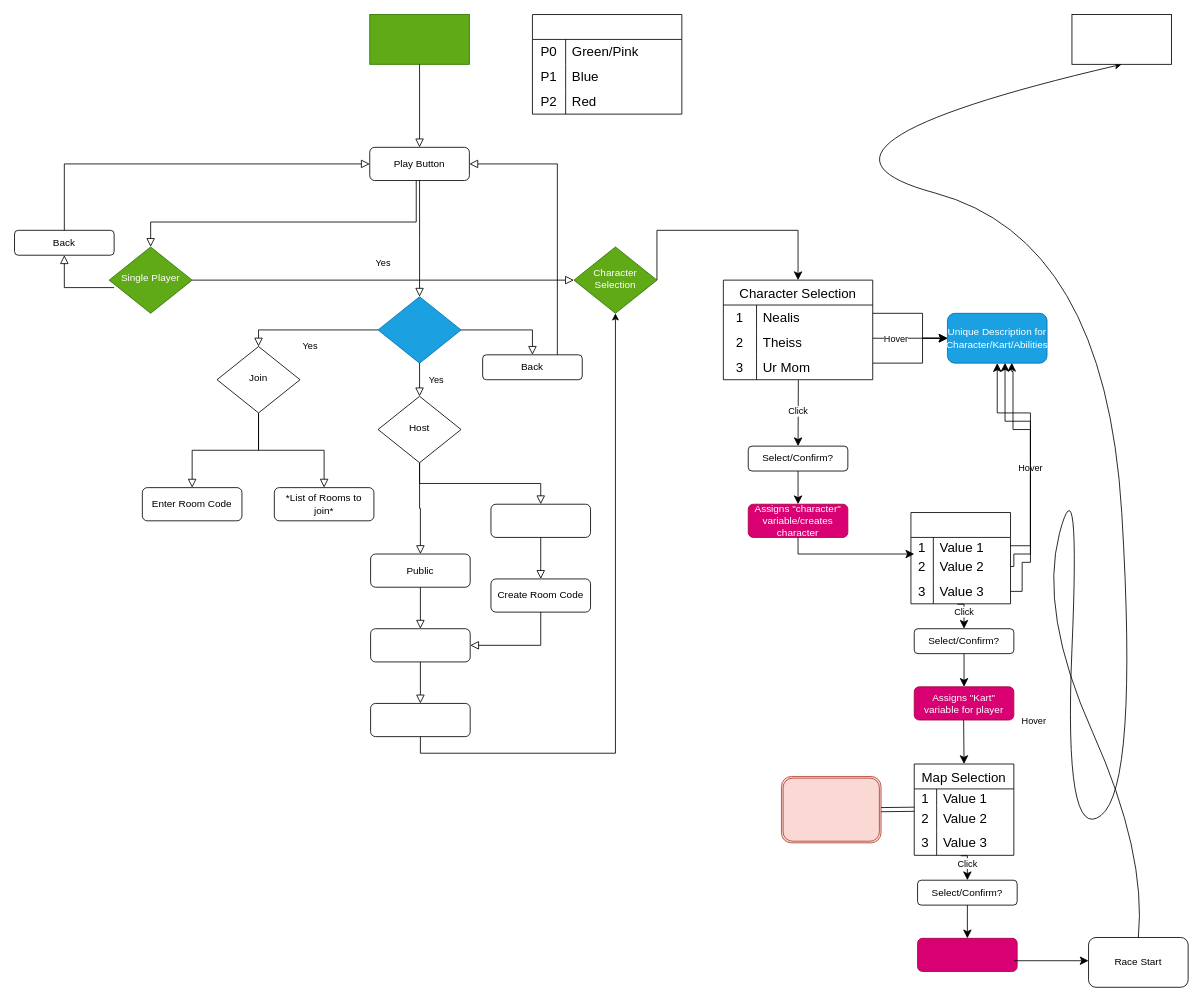
Image size: 1203x1002. Some labels were removed from this diagram. Here are the shapes that lost their labels. From the top down, the box of each, then its label:
(369, 14, 469, 64): Main Menu
(1071, 14, 1172, 64): In Race
(532, 14, 682, 114): Key
(377, 296, 461, 363): Multiplayer
(490, 503, 591, 537): Private
(910, 512, 1011, 604): Kart Selection
(370, 628, 470, 662): List of players in room
(370, 703, 470, 737): Start Game
(781, 776, 881, 843): Maybe a voting system?
(917, 937, 1017, 972): Loads Map
